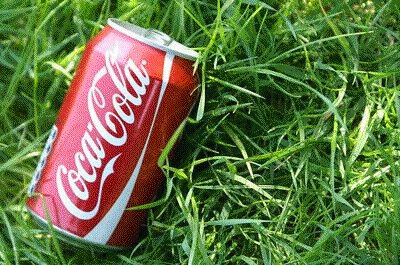can: (20, 12, 209, 255)
